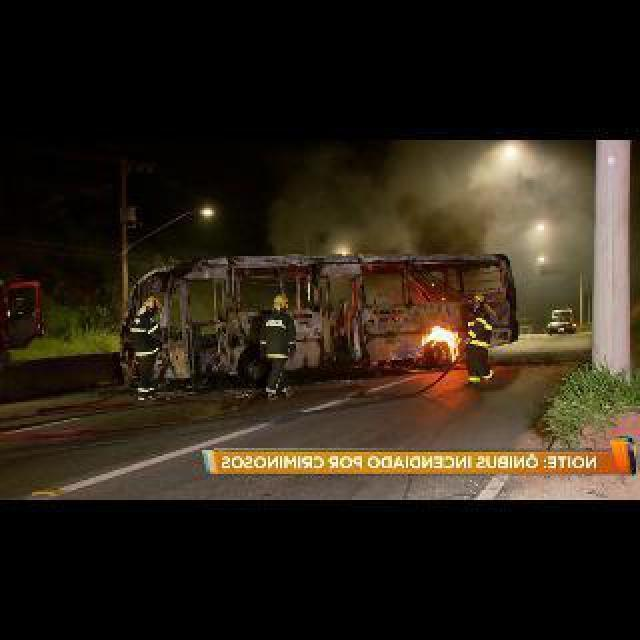Fire: (422, 324, 464, 362)
Smoke: (396, 169, 530, 264)
